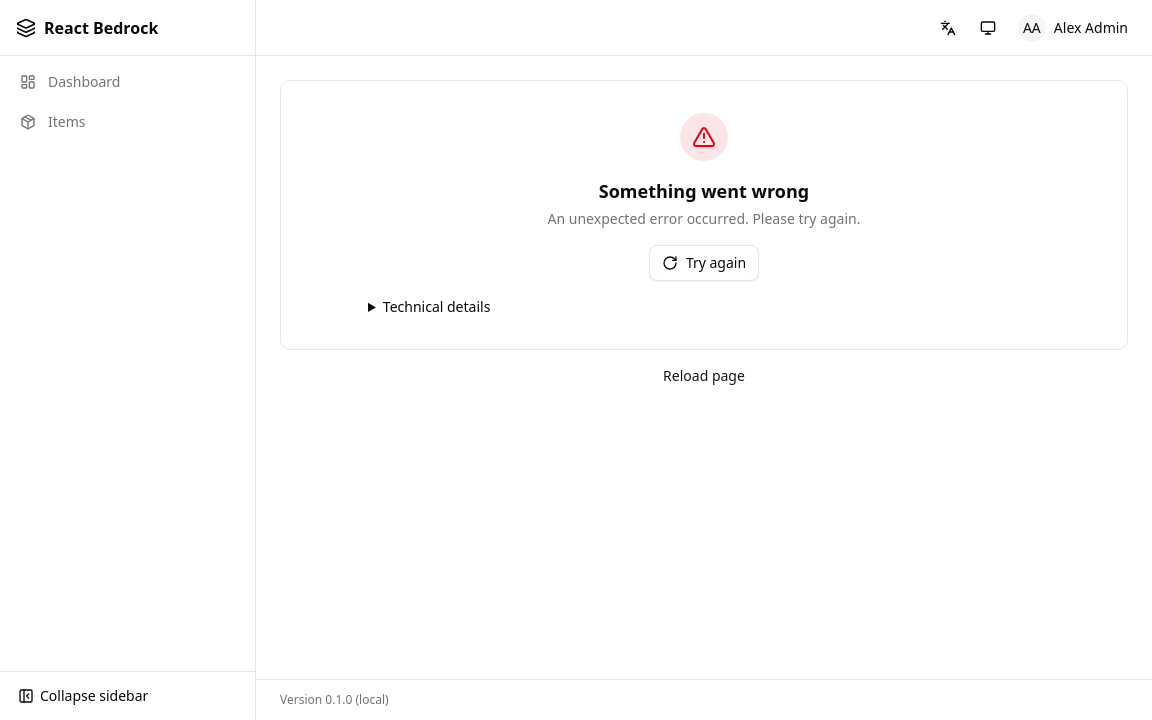
Scenario: errors on a page inside the app shell › clears the error when the user navigates to another page
The image size is (1152, 720).
Expected: the message is shown, [280,80,1128,350]
Click the link "Dashboard": (70, 82) [20,72,120,91]
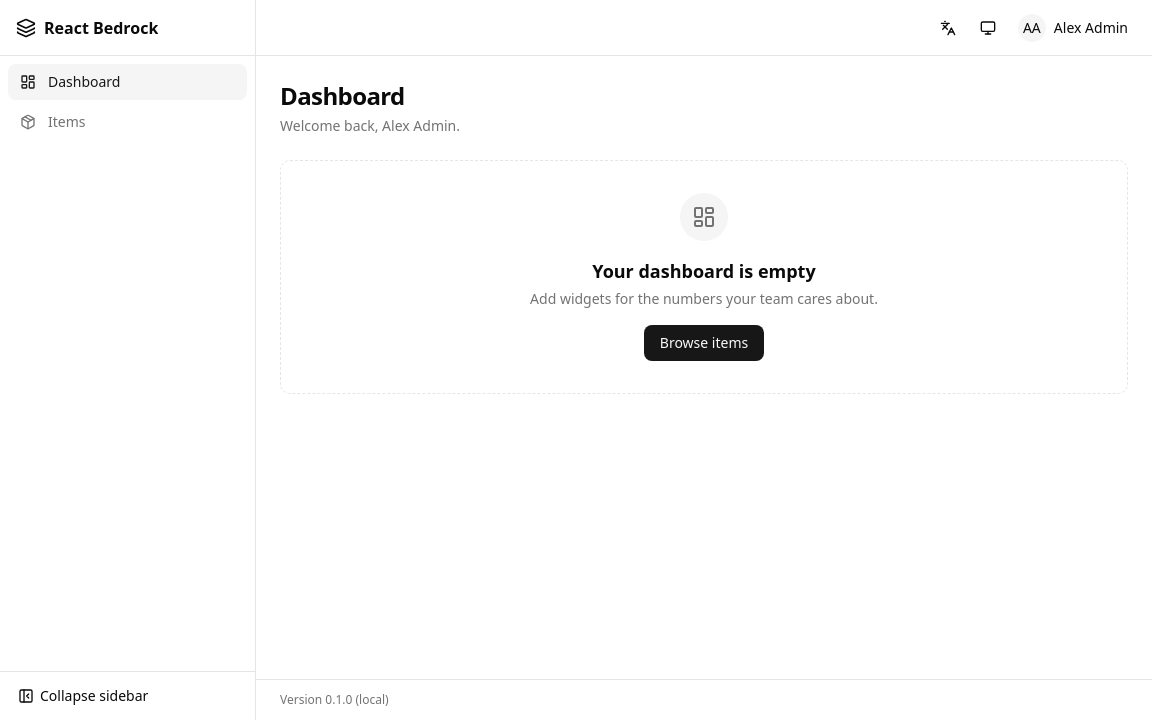
Expected: the heading "Dashboard" is shown, [280,79,405,112]
Expected: the message is gone
